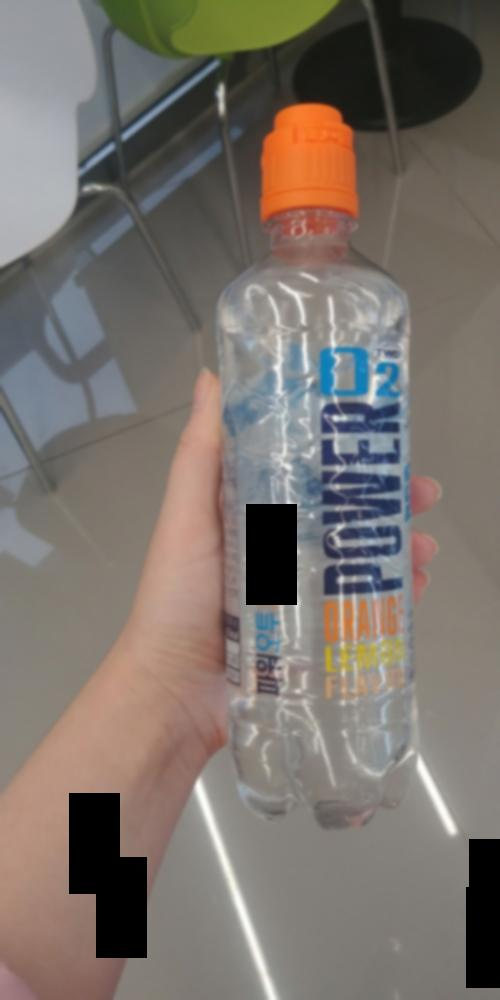powerO2_orange: (178, 93, 424, 851)
